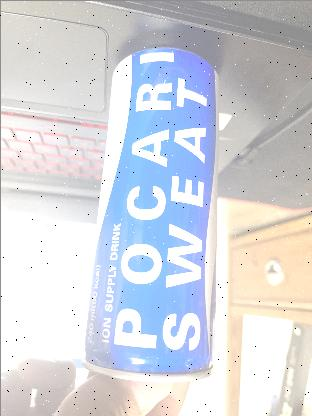Can: (82, 32, 214, 386)
